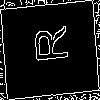R: (24, 25, 69, 65)
